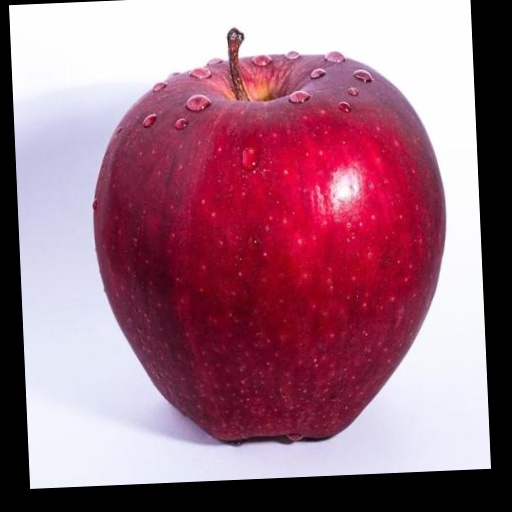fruit: (93, 29, 445, 440)
